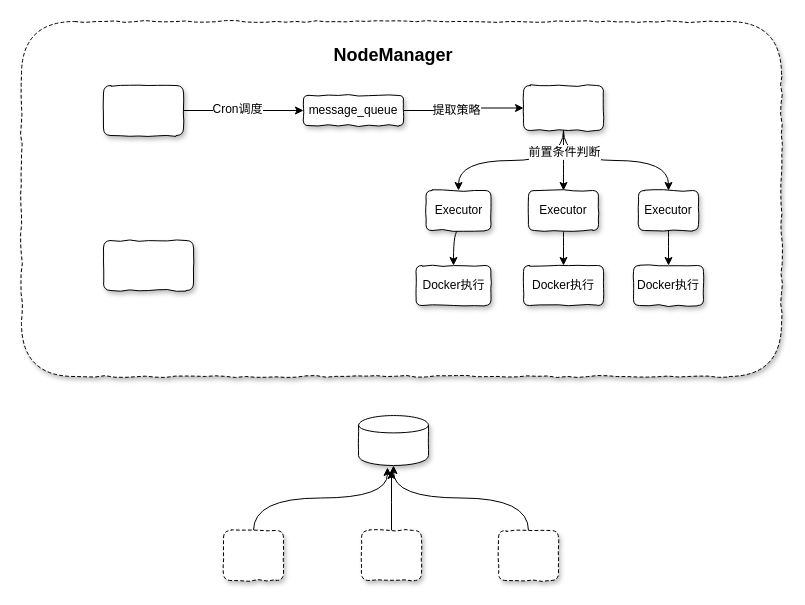
Image size: 805x605. Some labels were removed from this diagram. The shapes that lost their labels are listed below. From the top down, each one's centre as x and y in pixels, then its label:
the point at 144,111: Quartz
the point at 564,109: Submitter
the point at 149,267: RPC服务
the point at 394,441: MySQL
